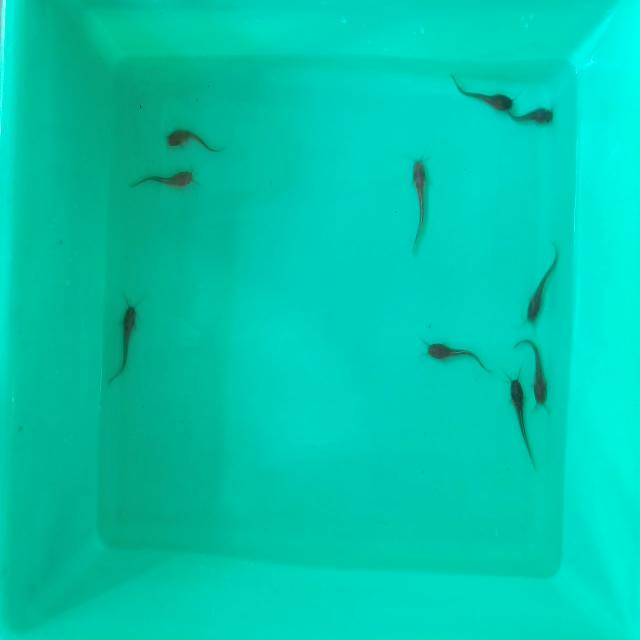lele: (523, 243, 561, 320), (449, 70, 512, 113), (112, 297, 143, 384), (423, 342, 493, 372), (408, 159, 431, 244), (510, 371, 532, 454), (170, 124, 222, 154), (528, 342, 550, 409), (506, 105, 558, 128), (129, 172, 191, 190)
